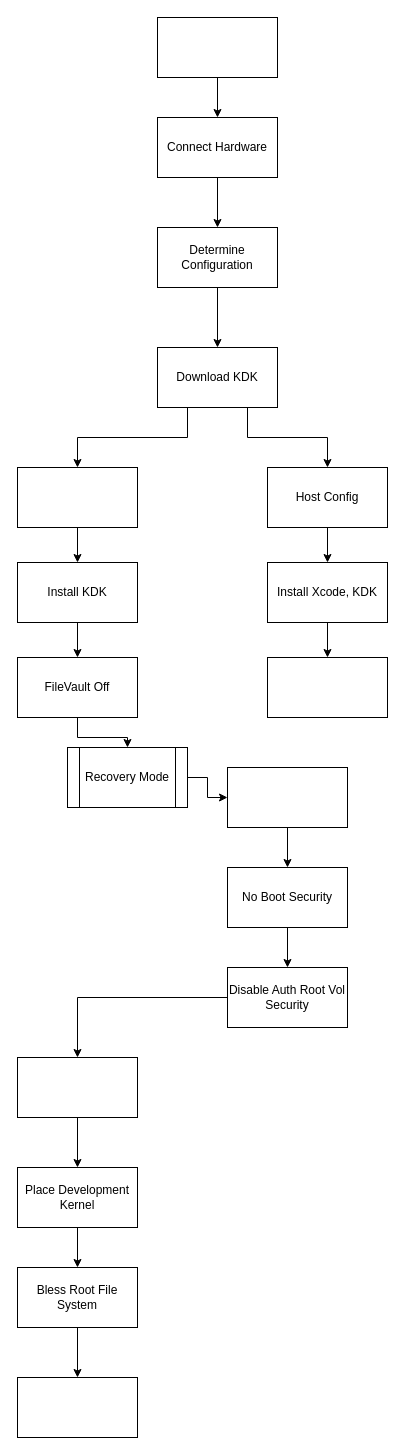
Some shapes in this 405 by 1455 pixel diagram are drawn without their labels. Each missing label, with the centre of its shape:
"Backup data" goes at pixel 217 47.
"Disable SIP" goes at pixel 287 797.
"LLDB Python version set to 2" goes at pixel 327 687.
"RW Mount Root File System" goes at pixel 77 1087.
"Target Config" goes at pixel 77 497.
"Update Boot Parameters" goes at pixel 77 1407.
